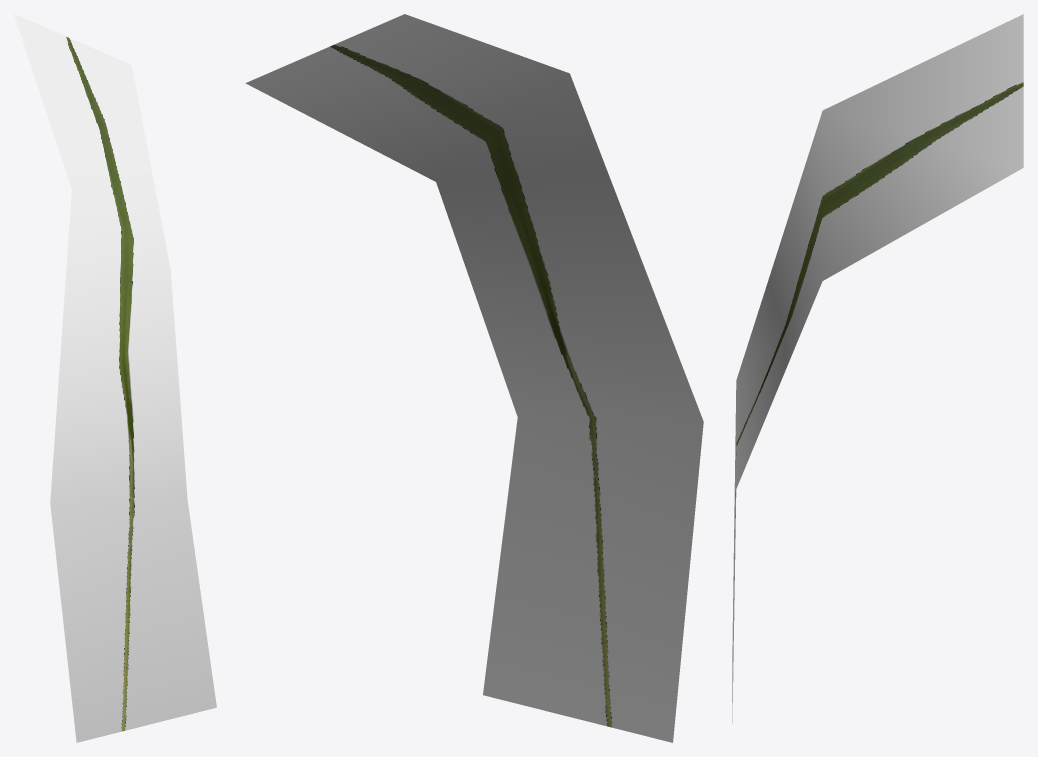
Rendered from brin_herbe02.fbx.
The picture shows the model from 3 angles, left to right: view 1: azimuth 30°, elevation 25°; view 2: azimuth 150°, elevation 25°; view 3: azimuth 270°, elevation 25°; orthographic projection. The views are drawn at different scales.
Visible parts, largest first — view 1: pPlane34; view 2: pPlane34; view 3: pPlane34.
Boxes of the visible parts, x1,y1,x2,y2 form: pPlane34: (14, 14, 216, 742); pPlane34: (245, 14, 703, 742); pPlane34: (732, 14, 1023, 722).
Size of the model in its own units: 0.0402 by 0.1127 by 0.0431.
Materials: 1 (1 with a texture image).
